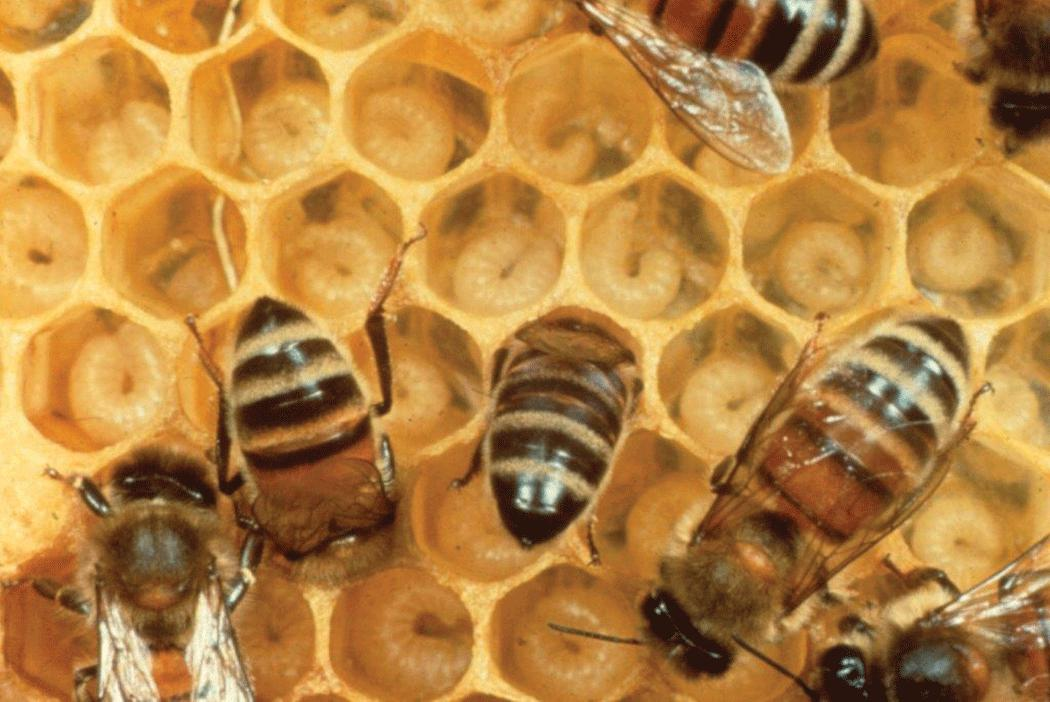bee: (650, 315, 965, 672), (227, 295, 397, 558), (494, 319, 637, 539), (825, 575, 1050, 702), (103, 463, 217, 702), (595, 0, 885, 88), (982, 0, 1050, 130)
